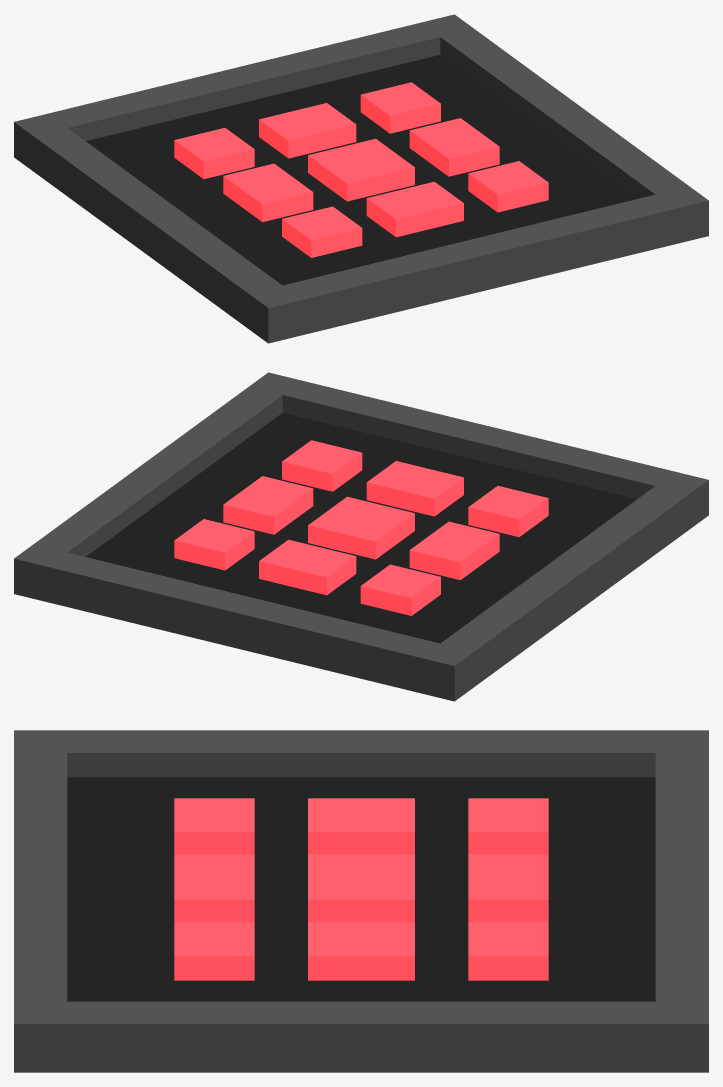
File: trap_DOTS_RED.glb
3 renders of one model, top to bottom at view 1: azimuth 30°, elevation 25°; view 2: azimuth 150°, elevation 25°; view 3: azimuth 270°, elevation 25°, orthographic. The views are drawn at different scales.
Parts seen in each view (by area): view 1: item_TRAP_DOTS_RED; view 2: item_TRAP_DOTS_RED; view 3: item_TRAP_DOTS_RED.
Part boxes in pixels (x1=…): item_TRAP_DOTS_RED: x1=14, y1=14, x2=708, y2=343; item_TRAP_DOTS_RED: x1=14, y1=372, x2=708, y2=701; item_TRAP_DOTS_RED: x1=14, y1=730, x2=708, y2=1072.
Size of the model in its own units: 0.5909 by 0.0455 by 0.5909.
Materials: 1 (1 with a texture image).
